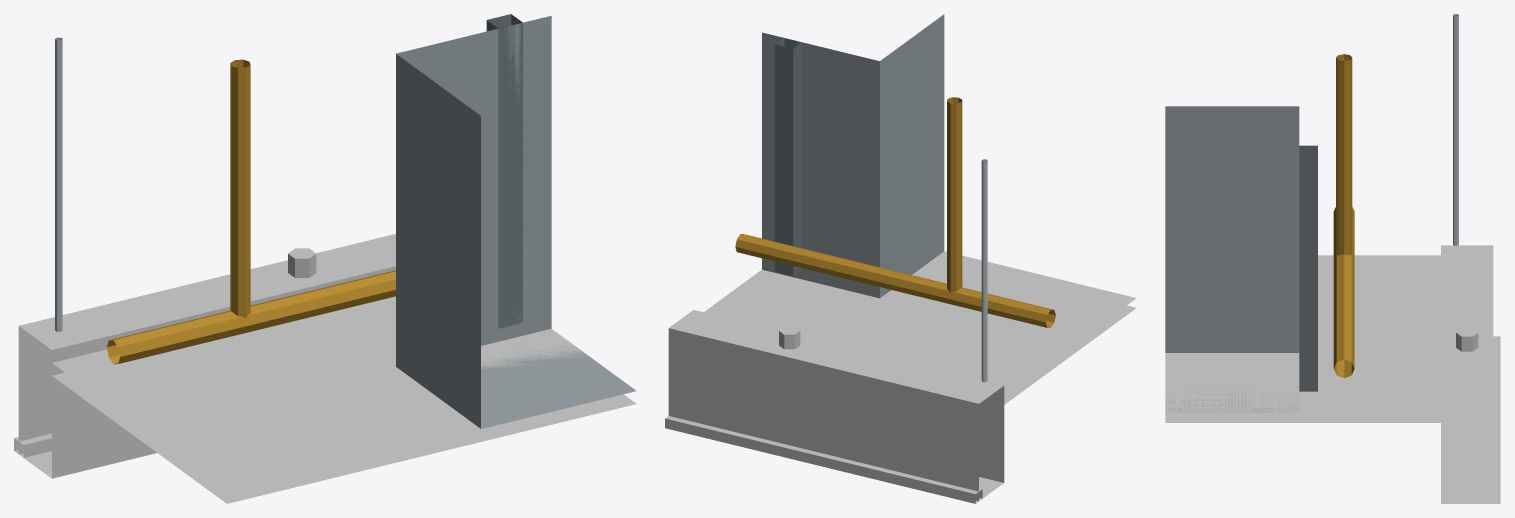
File: cell_5.obj
3 views of the same model, side by side, from view 1: azimuth 30°, elevation 25°; view 2: azimuth 150°, elevation 25°; view 3: azimuth 270°, elevation 25° (orthographic). The views are drawn at different scales.
Bounding box in the file's own units: 1 × 1 × 0.9.
